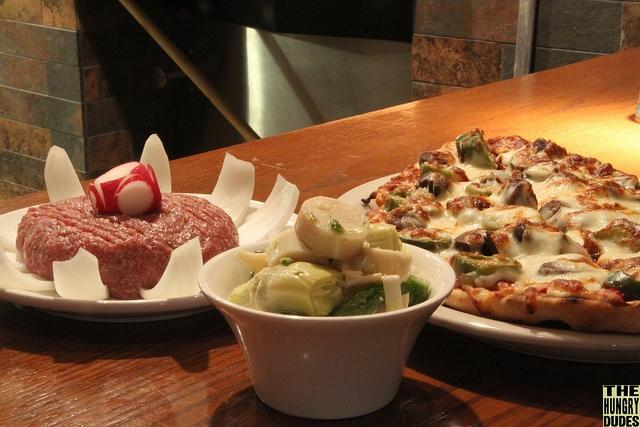radish: (89, 162, 162, 216)
